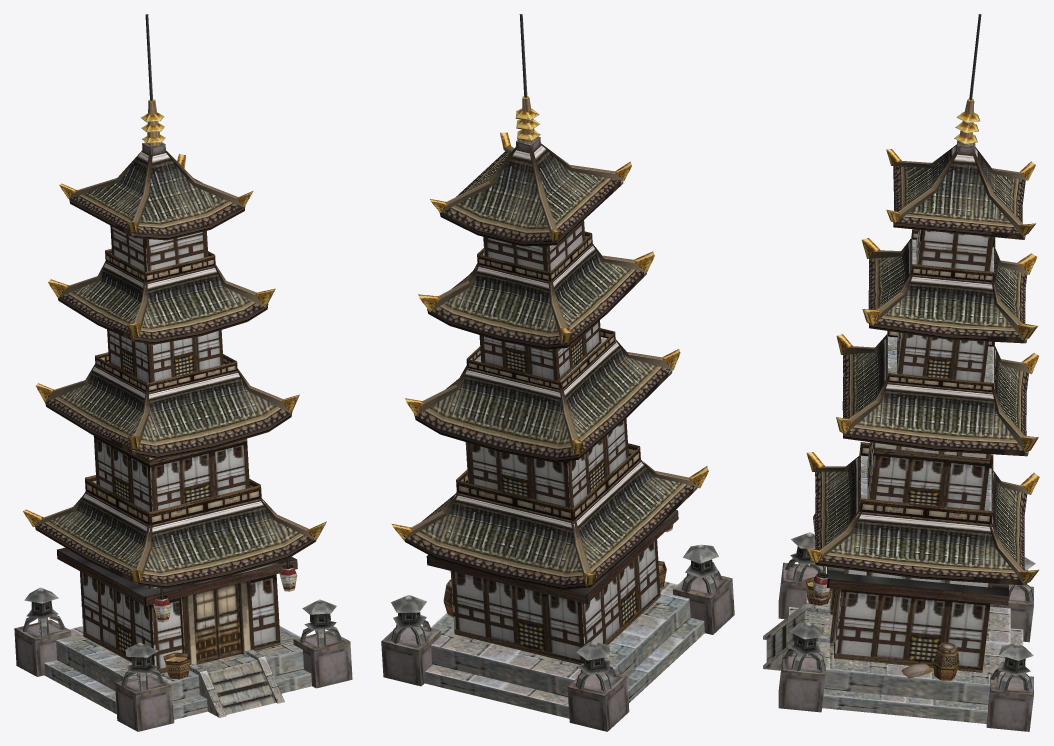
The model's file is japan_monastery.fbx.
The picture shows the model from 3 angles, left to right: view 1: azimuth 30°, elevation 25°; view 2: azimuth 150°, elevation 25°; view 3: azimuth 270°, elevation 25°; orthographic projection. The views are drawn at different scales.
Parts seen in each view (by area): view 1: Object01, Object03, Object02; view 2: Object01, Object03, Object02; view 3: Object01, Object03, Object02.
Boxes of the visible parts, box(x1,y1,x2,y2) form: Object01: box(14, 99, 352, 731); Object03: box(76, 150, 271, 547); Object02: box(23, 14, 341, 690); Object01: box(381, 96, 734, 731); Object03: box(448, 144, 652, 544); Object02: box(391, 14, 722, 690); Object01: box(763, 99, 1039, 731); Object03: box(847, 145, 999, 547); Object02: box(783, 14, 1035, 691).
Bounding box in the file's own units: 5.99 × 6.49 × 17.15.
Materials: 2 (2 with a texture image).
